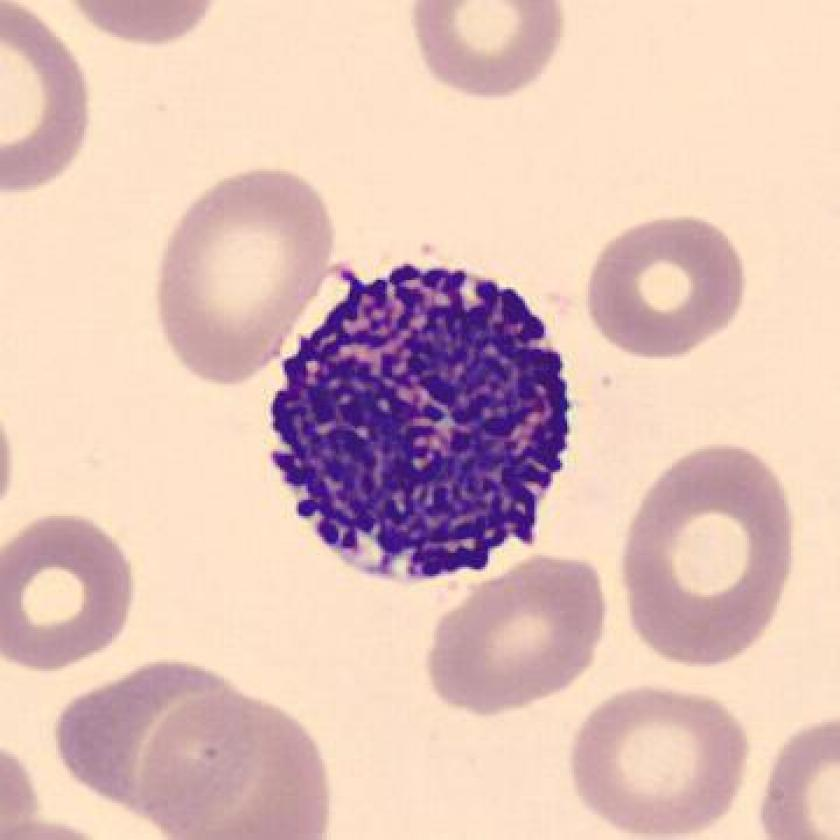basophil: (272, 258, 584, 584)
